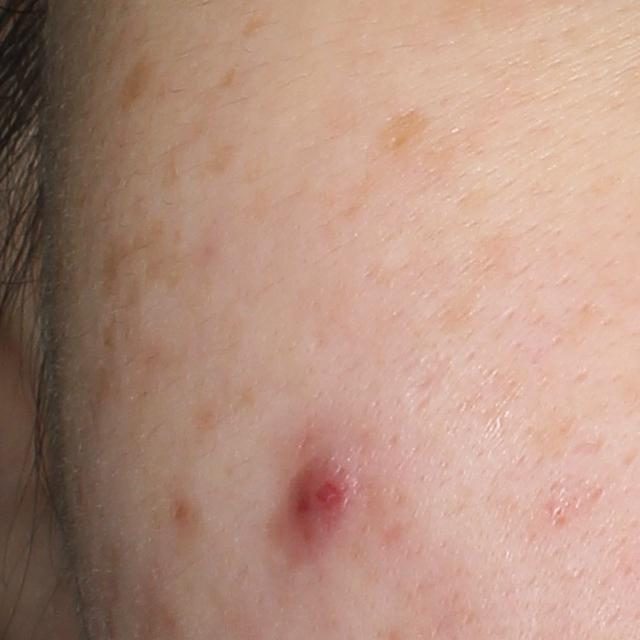melasma: (359, 102, 432, 182), (100, 48, 156, 108), (202, 140, 243, 182), (237, 12, 277, 42), (210, 59, 241, 95)
papule: (274, 436, 378, 566)
